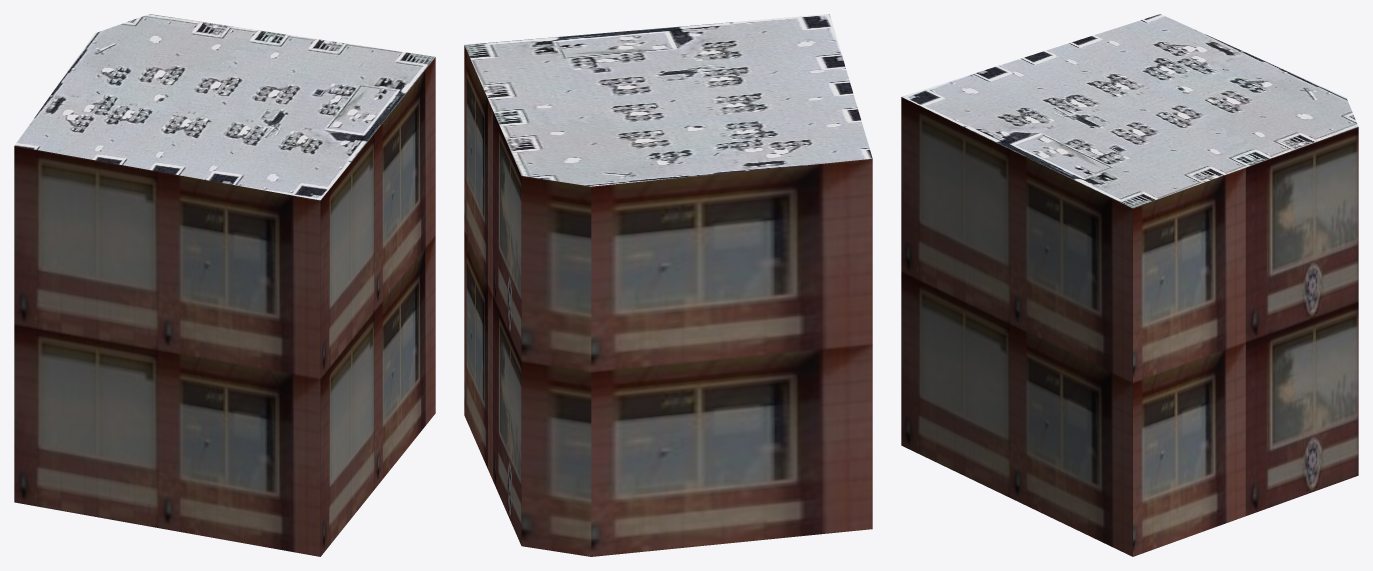
Rendered from ResTex__5000.fbx.
3 views of the same model, side by side, from view 1: azimuth 30°, elevation 25°; view 2: azimuth 150°, elevation 25°; view 3: azimuth 270°, elevation 25° (orthographic). The views are drawn at different scales.
Visible parts, largest first — view 1: CityEngineMaterial_13_m, CityEngineMaterial_m; view 2: CityEngineMaterial_13_m, CityEngineMaterial_m; view 3: CityEngineMaterial_13_m, CityEngineMaterial_m.
Part boxes in pixels (x1,y1,x2,y2): CityEngineMaterial_13_m: (14,57,435,556); CityEngineMaterial_m: (14,14,434,200); CityEngineMaterial_13_m: (464,45,872,556); CityEngineMaterial_m: (464,14,872,186); CityEngineMaterial_13_m: (901,97,1358,556); CityEngineMaterial_m: (902,14,1358,207).
Bounding box in the file's own units: 7.17 × 6 × 7.13.
2 materials, 2 textured.
